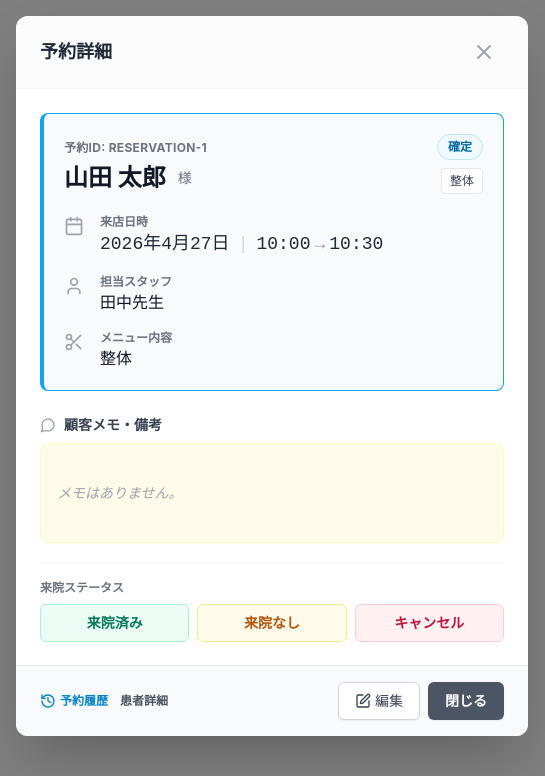
Test: AppointmentDetail › appends patient pages and retries a failed page without losing already loaded history
The image size is (545, 776).
Step 1. Click the button "予約履歴" → [74, 701], box [40,693,108,709]
(page scrolled)
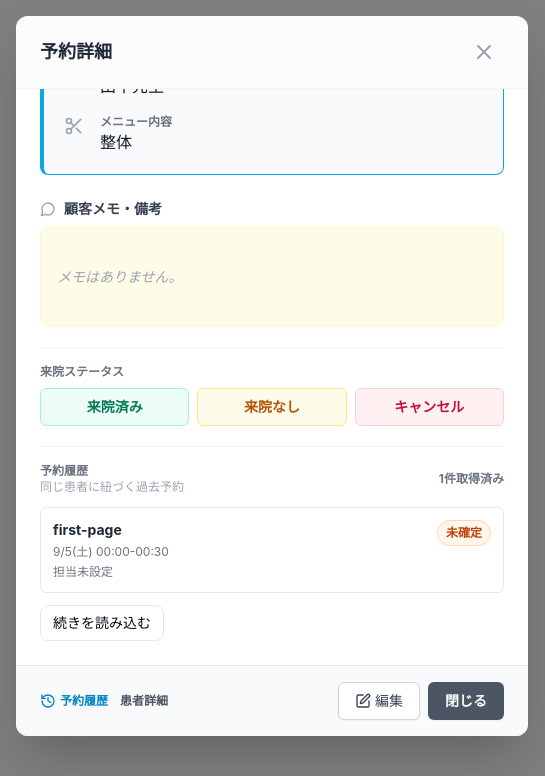
Check: the text "first-page" is shown, box [53,521,122,538]
Check: the text "1件取得済み" is shown, box [439,471,504,487]
Step 2. Click the button "続きを読み込む" → [102, 623], box [40,605,164,641]
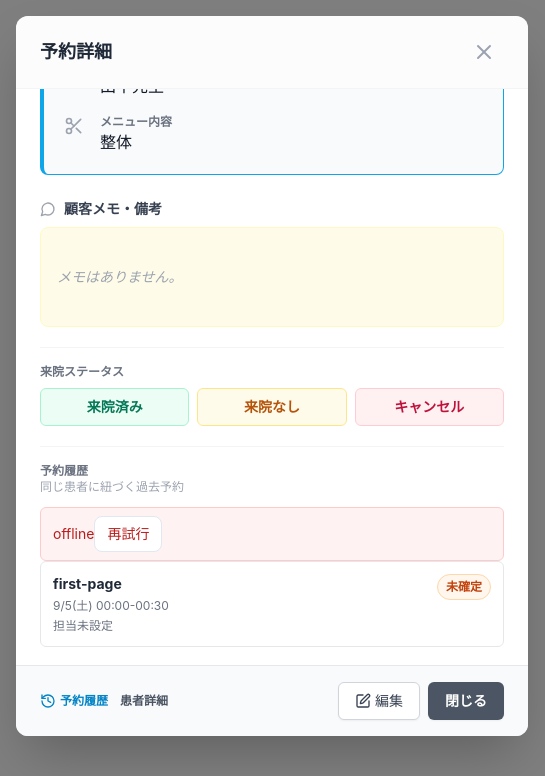
Check: the text "first-page" is shown, box [53,575,122,592]
Check: the text "offline" is shown, box [53,525,94,542]
Step 3. Click the button "再試行" → [128, 534], box [94,516,162,552]
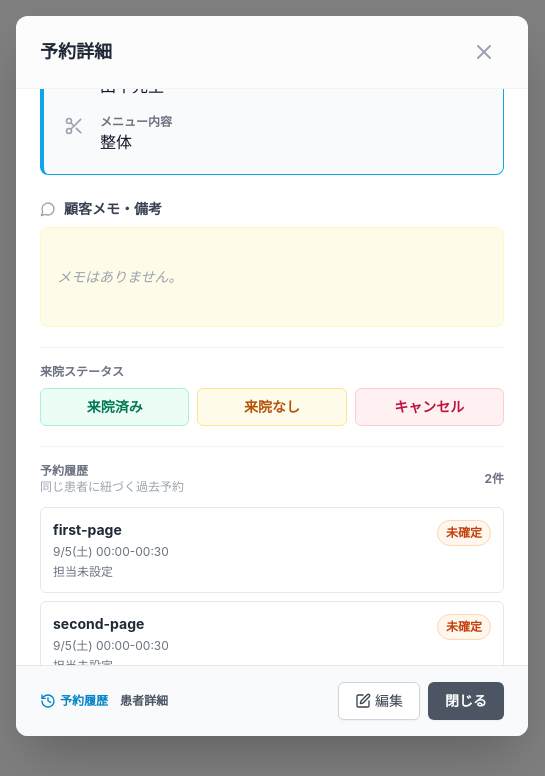
Check: the text "first-page" is shown, box [53,521,122,538]
Check: the text "second-page" is shown, box [53,615,144,632]
